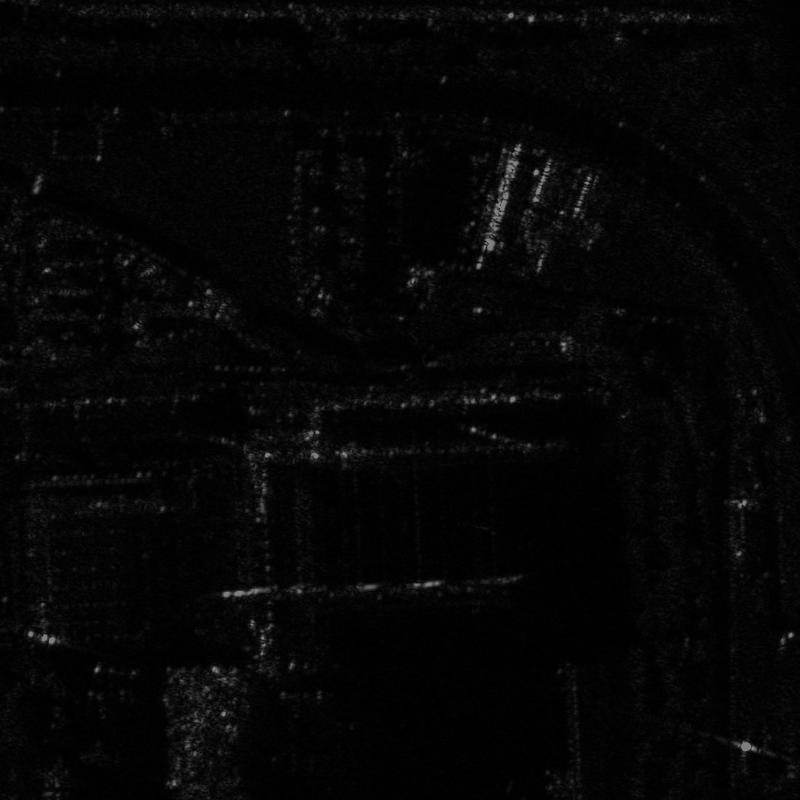Boeing737: (263, 688, 359, 777), (74, 682, 147, 769)
